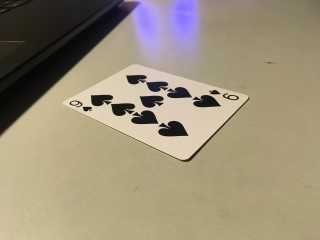NineOfSpades: (63, 64, 249, 160)
